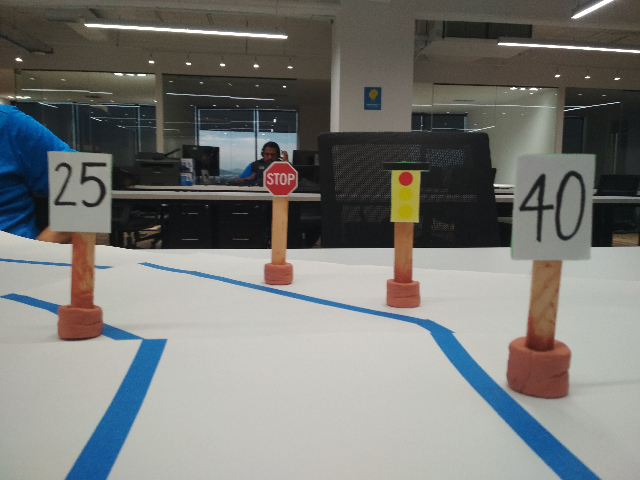Red Traffic Light: (379, 159, 432, 224)
Speed Limit 25: (45, 148, 115, 235)
Speed Limit 40: (510, 151, 595, 264)
Stop Sign: (262, 160, 300, 197)
